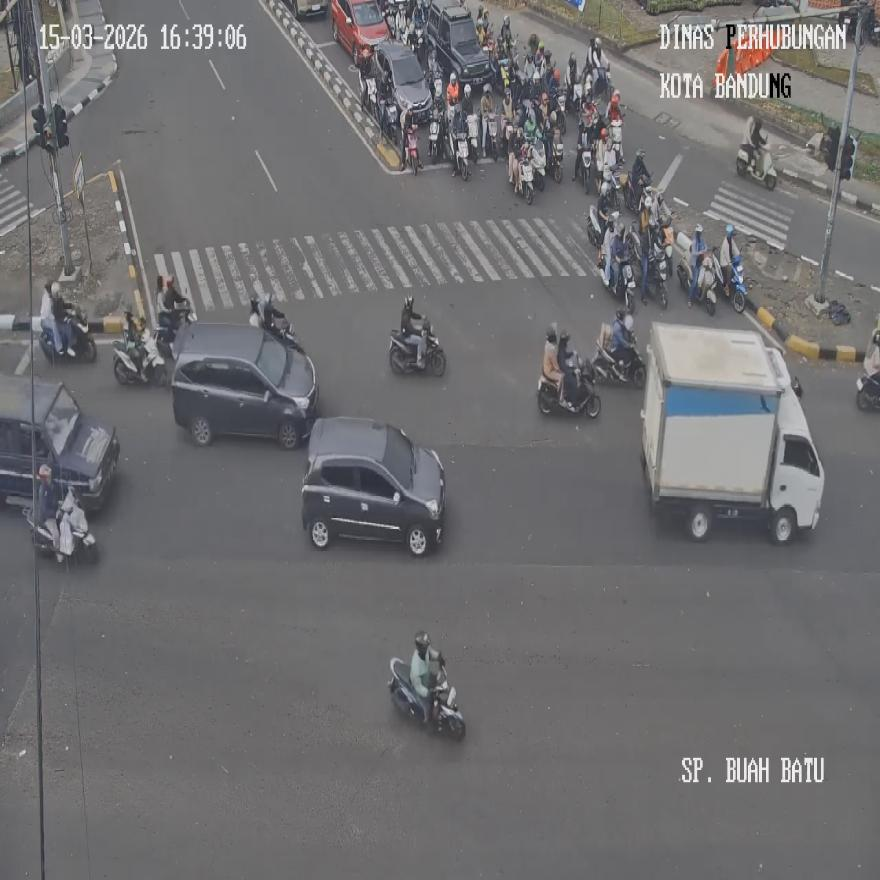Motor: (301, 415, 445, 554), (170, 322, 318, 448), (0, 372, 120, 514)
Truk: (389, 655, 466, 738), (22, 486, 98, 564), (536, 354, 600, 417), (672, 234, 717, 316), (389, 319, 446, 376), (248, 293, 303, 352), (594, 326, 646, 388), (40, 306, 95, 364), (111, 328, 166, 386), (154, 300, 196, 360), (736, 136, 776, 190), (640, 250, 668, 310), (719, 257, 746, 314), (609, 252, 635, 310), (598, 166, 620, 215), (622, 172, 646, 216), (858, 1, 880, 46), (528, 136, 546, 190), (587, 202, 608, 248), (856, 370, 880, 410), (380, 96, 399, 146), (517, 153, 535, 204), (404, 122, 421, 174), (606, 118, 623, 168), (452, 133, 470, 180), (576, 146, 593, 194), (547, 138, 564, 186), (465, 112, 481, 161), (360, 74, 377, 118), (485, 112, 500, 161), (428, 118, 442, 162), (569, 77, 583, 114)
